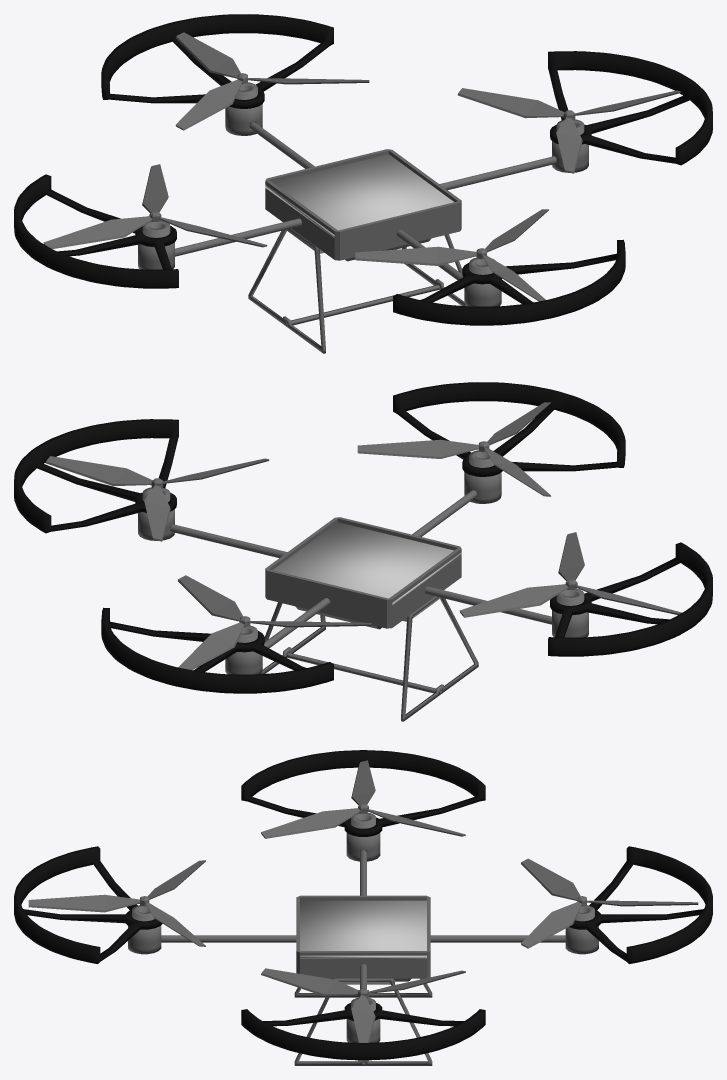
Rendered from Dron.glb.
3 renders of one model, top to bottom at view 1: azimuth 30°, elevation 25°; view 2: azimuth 150°, elevation 25°; view 3: azimuth 270°, elevation 25°, orthographic. The views are drawn at different scales.
Visible parts, largest first — view 1: Plane; view 2: Plane; view 3: Plane.
Part boxes in pixels (x1,y1,x2,y2): Plane: [14, 14, 712, 353]; Plane: [14, 382, 712, 721]; Plane: [14, 750, 712, 1065].
Size of the model in its own units: 0.3469 by 0.0731 by 0.3469.
Materials: 1 (1 with a texture image).
